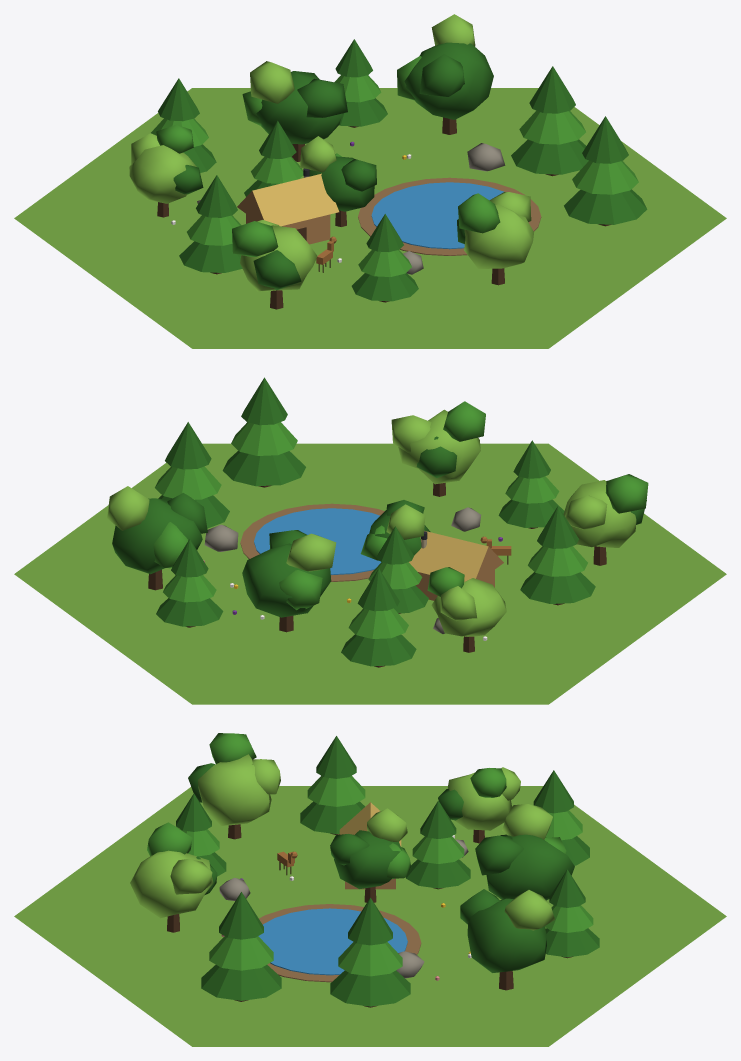
The model's file is district_preserve_2.fbx.
3 views of the same model, one above another, from view 1: azimuth 30°, elevation 25°; view 2: azimuth 150°, elevation 25°; view 3: azimuth 270°, elevation 25° (orthographic).
Parts seen in each view (by area): view 1: district_preserve_2; view 2: district_preserve_2; view 3: district_preserve_2.
Boxes of the visible parts, left/top/right/bottom form: district_preserve_2: left=14, top=14, right=726, bottom=348; district_preserve_2: left=14, top=377, right=726, bottom=704; district_preserve_2: left=14, top=733, right=726, bottom=1046.
Size of the model in its own units: 182 by 35.12 by 210.
